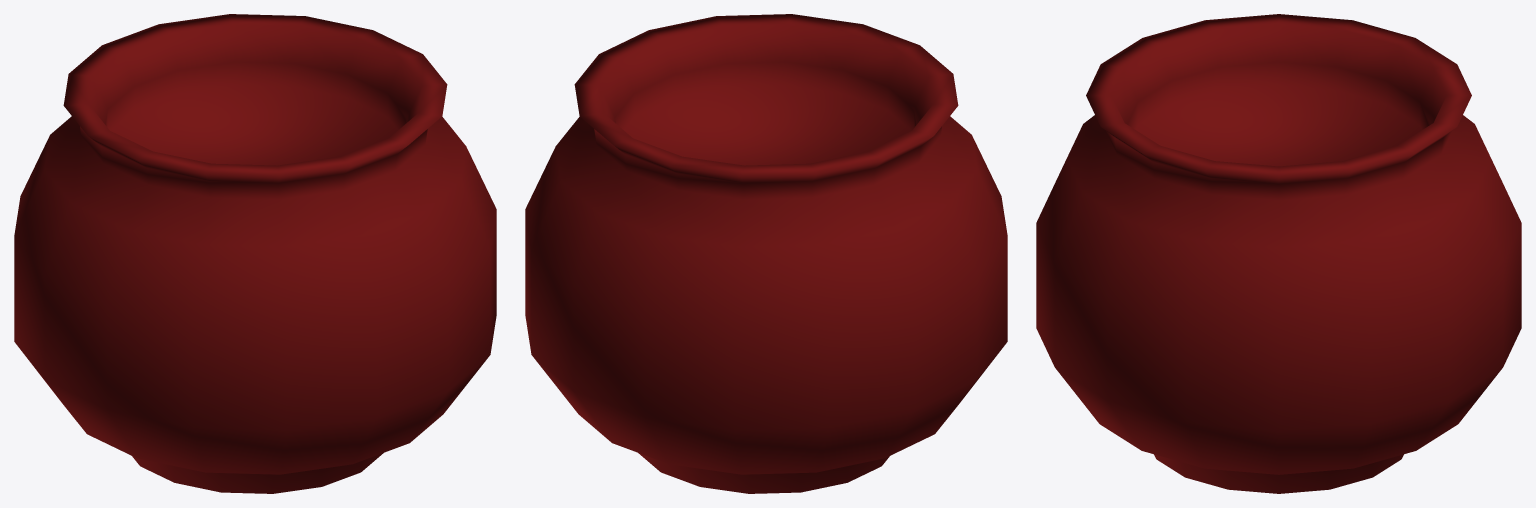
Rendered from tool8.fbx.
3 views of the same model, side by side, from view 1: azimuth 30°, elevation 25°; view 2: azimuth 150°, elevation 25°; view 3: azimuth 270°, elevation 25° (orthographic).
Visible parts, largest first — view 1: Vase_02_Circle.001; view 2: Vase_02_Circle.001; view 3: Vase_02_Circle.001.
Part boxes in pixels (left/top/right/bottom): Vase_02_Circle.001: left=14, top=14, right=496, bottom=493; Vase_02_Circle.001: left=525, top=14, right=1007, bottom=493; Vase_02_Circle.001: left=1036, top=14, right=1521, bottom=493.
Bounding box in the file's own units: 260 × 202 × 260.
